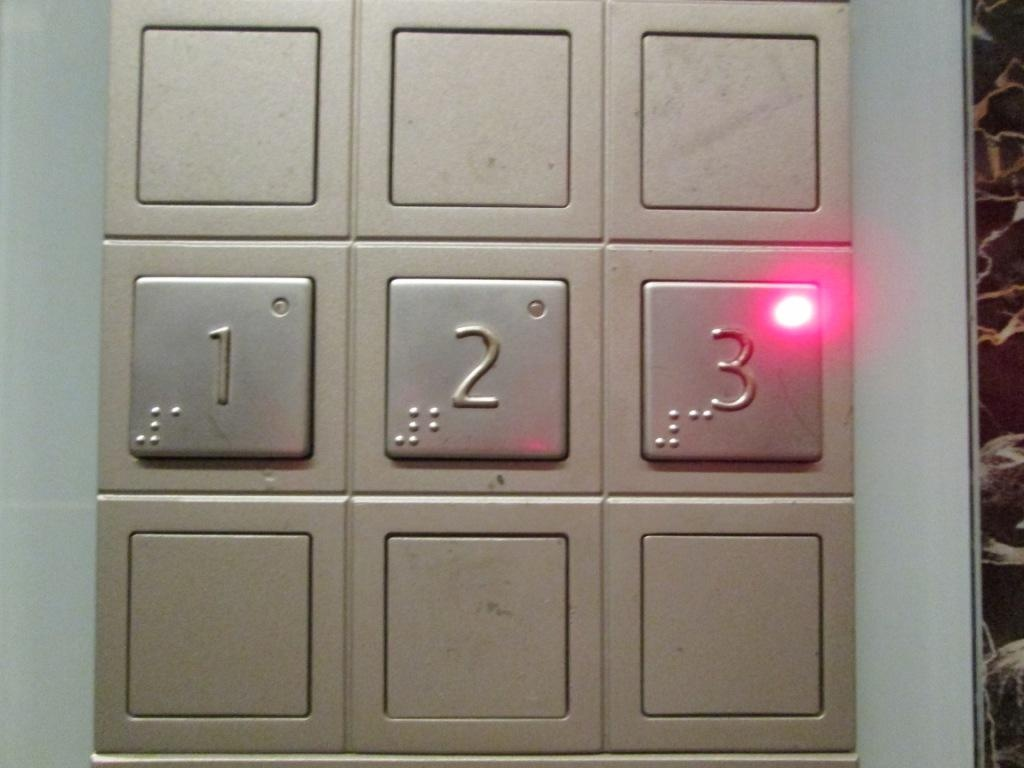1: (123, 270, 320, 468)
2: (377, 270, 574, 468)
3: (632, 273, 829, 471)
empty: (130, 17, 327, 215), (381, 18, 578, 216), (120, 523, 315, 723), (377, 527, 572, 727), (633, 525, 828, 725), (633, 24, 824, 216)
